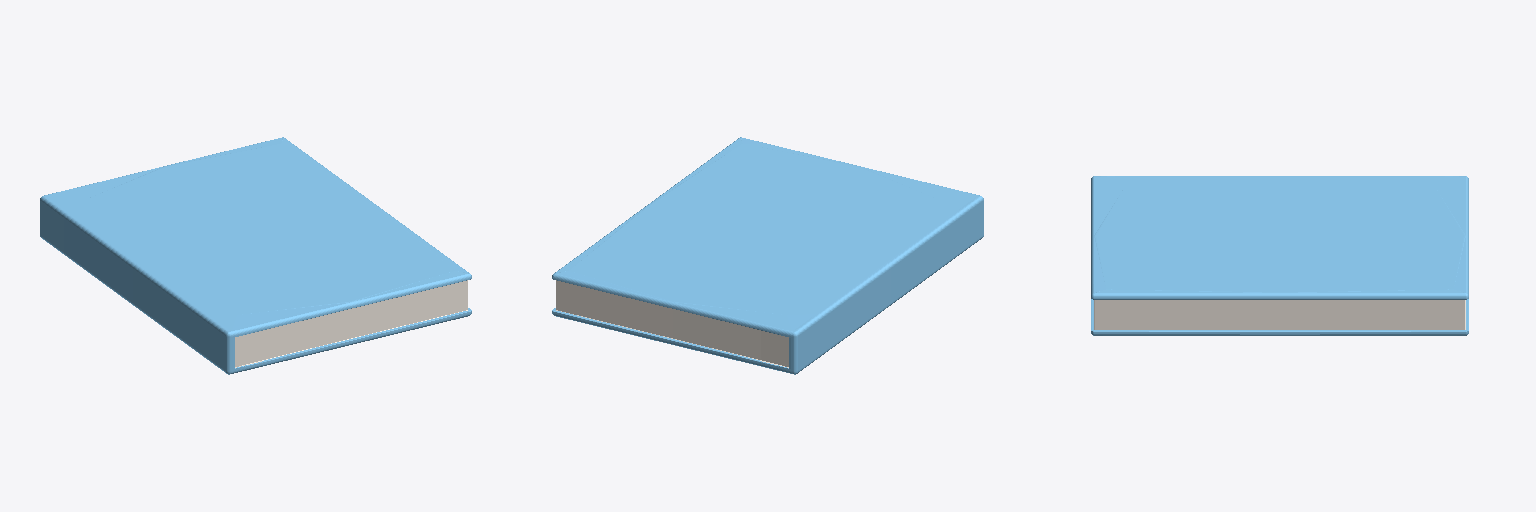
File: book.obj
3 views of the same model, side by side, from view 1: azimuth 30°, elevation 25°; view 2: azimuth 150°, elevation 25°; view 3: azimuth 270°, elevation 25° (orthographic).
Visible parts, largest first — view 1: Cube.1; view 2: Cube.1; view 3: Cube.1.
Part boxes in pixels (left/top/right/bottom): Cube.1: left=40, top=137, right=471, bottom=374; Cube.1: left=552, top=137, right=983, bottom=374; Cube.1: left=1091, top=176, right=1468, bottom=335.
Size of the model in its own units: 15 by 2.5 by 20.